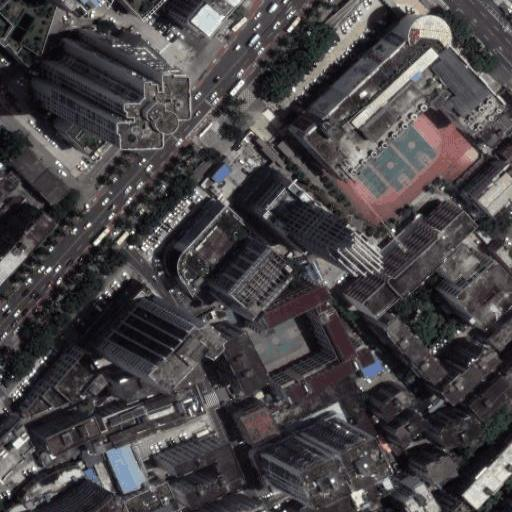building: (293, 5, 498, 177), (49, 31, 156, 146), (247, 403, 360, 491), (372, 197, 465, 286), (77, 378, 192, 445), (162, 200, 234, 300), (259, 416, 353, 488), (233, 163, 310, 238), (87, 290, 168, 360), (34, 30, 107, 106), (16, 346, 98, 413), (158, 430, 233, 497), (274, 467, 385, 512), (434, 247, 505, 317), (210, 234, 276, 304), (363, 305, 430, 373), (454, 427, 512, 503), (0, 0, 58, 70), (0, 462, 80, 512), (8, 144, 70, 207), (422, 337, 485, 399), (249, 276, 319, 328), (271, 351, 345, 396), (203, 322, 254, 383), (464, 355, 512, 416), (277, 141, 330, 196), (463, 157, 512, 211), (82, 289, 132, 341), (103, 441, 150, 496), (303, 292, 344, 355), (29, 406, 86, 445), (262, 185, 308, 232), (126, 482, 183, 512), (424, 230, 468, 268), (231, 397, 271, 438), (349, 270, 387, 308), (423, 404, 466, 436), (478, 111, 512, 150), (481, 307, 512, 348), (387, 407, 423, 442), (366, 380, 404, 413), (167, 0, 210, 27), (103, 362, 146, 388), (412, 445, 446, 476), (355, 348, 386, 381), (256, 136, 287, 168), (487, 236, 512, 269), (429, 493, 462, 512), (81, 449, 107, 467), (86, 467, 103, 490), (213, 163, 232, 183), (128, 280, 146, 298), (222, 308, 238, 327), (477, 229, 493, 245), (494, 498, 512, 512), (507, 264, 512, 274)
